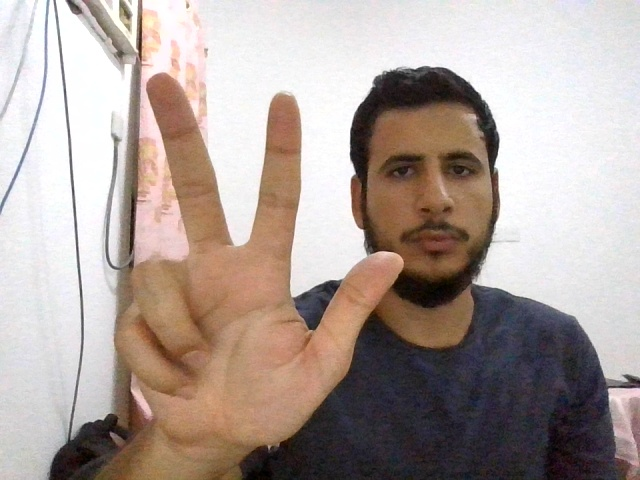Three: (115, 73, 404, 451)
